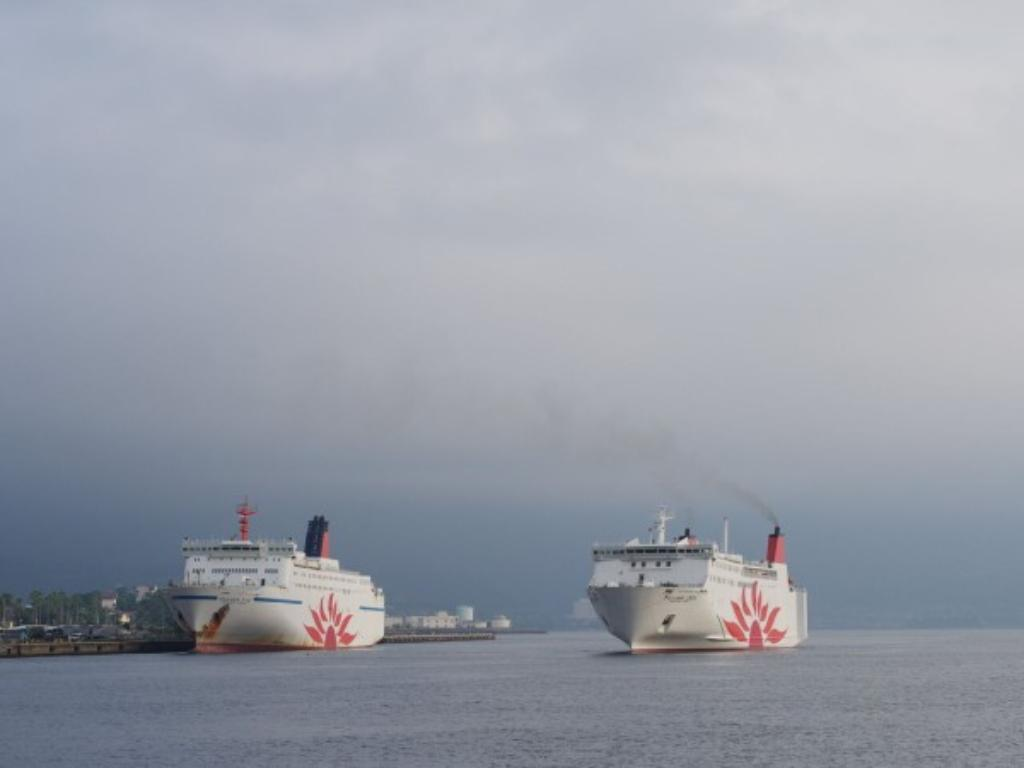PassengerShip: (159, 489, 395, 653), (577, 506, 815, 660)
